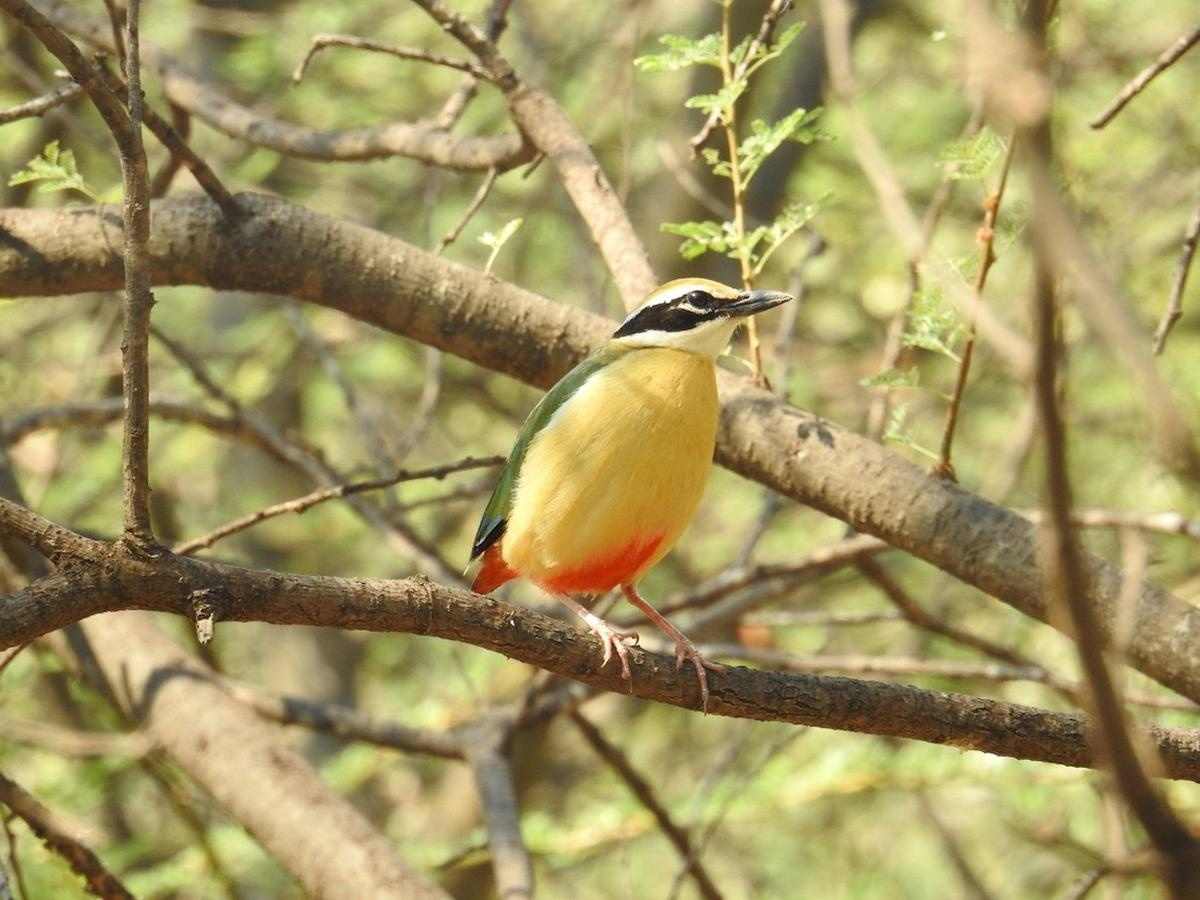pitta: (498, 213, 798, 707)
